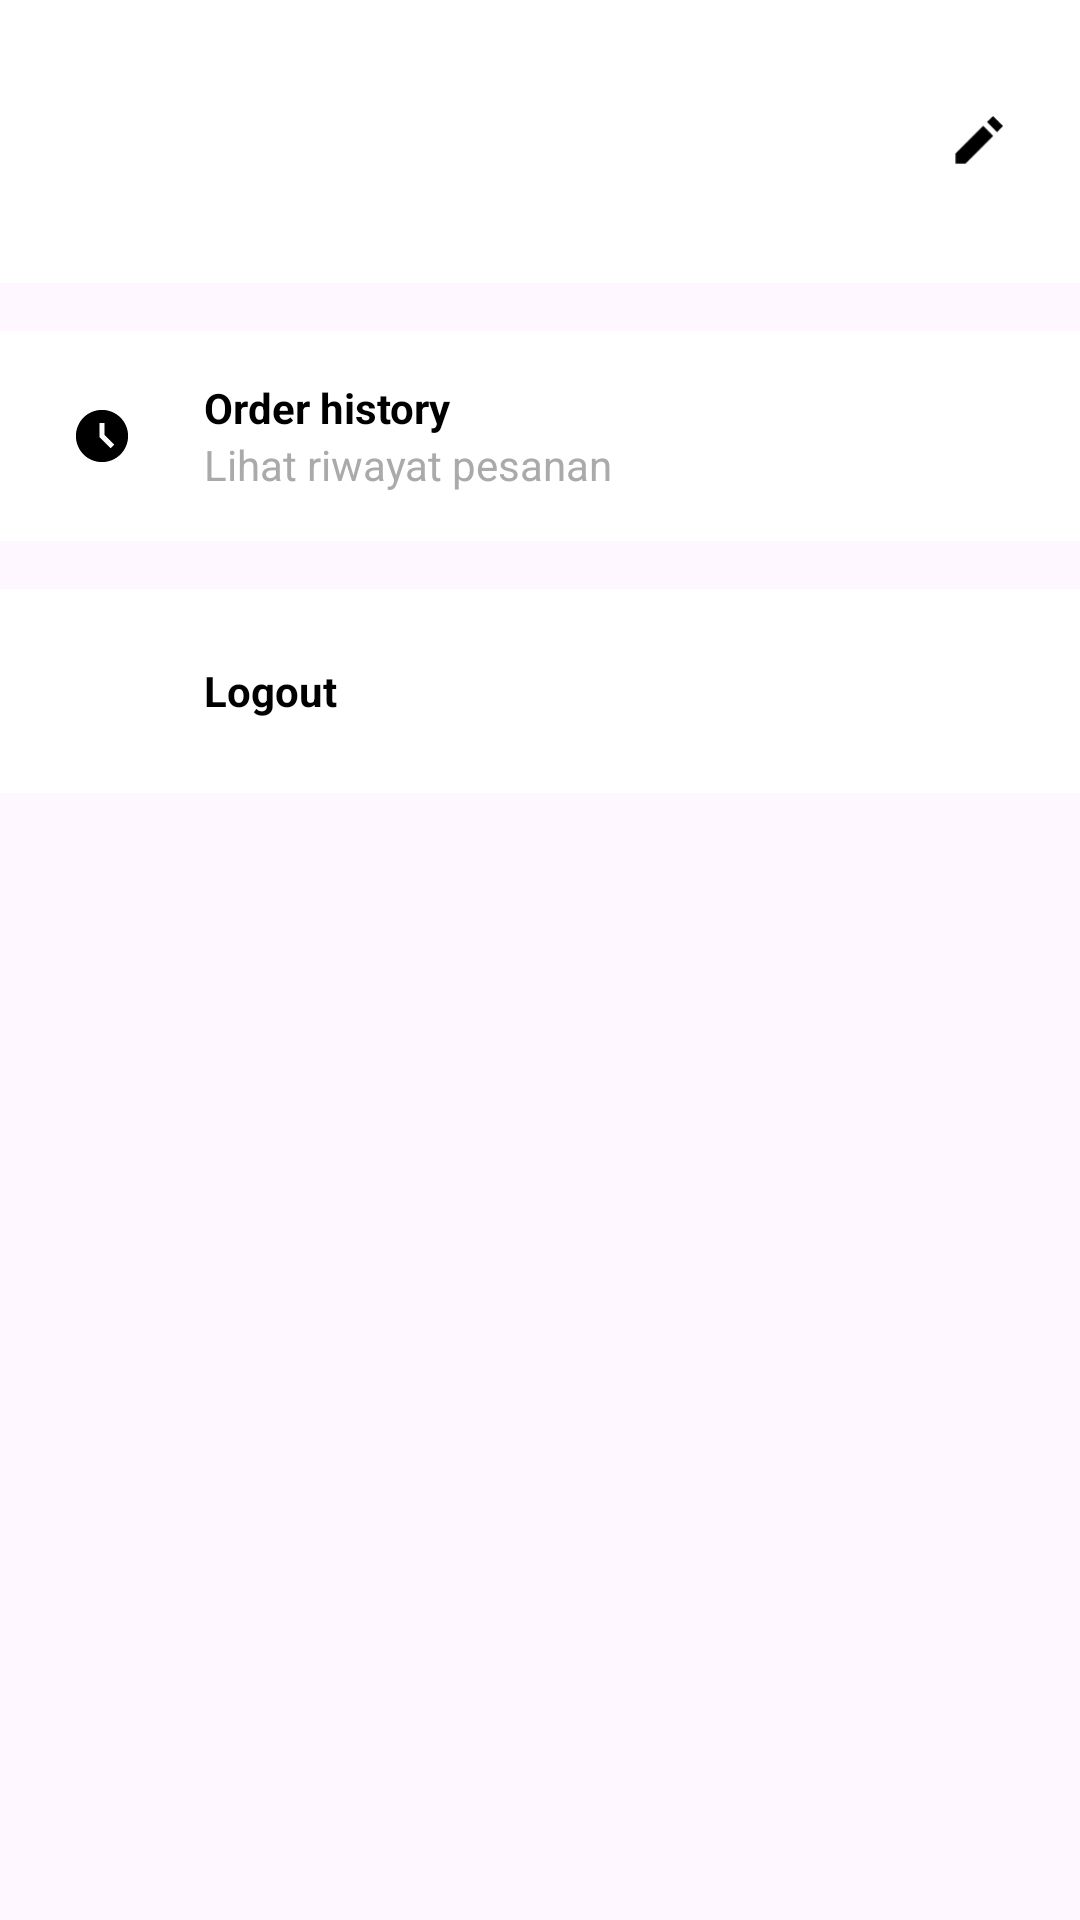

Icon bounding boxes for this 1080px x 1920px phone screenshot, format (x1, y1, x2, y2):
edit: (955, 116, 1003, 164)
